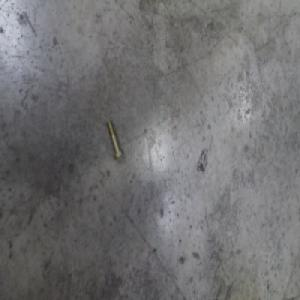Bolt: (106, 119, 123, 161)
